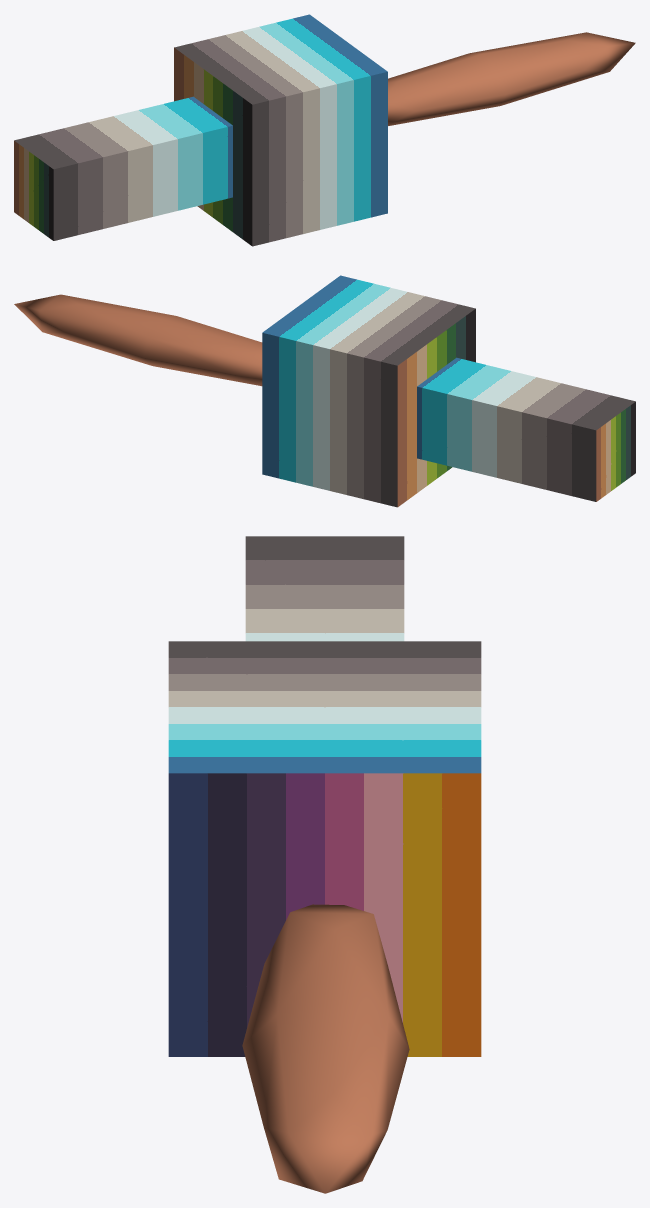
File: sword.dae
The picture shows the model from 3 angles, top to bottom: view 1: azimuth 30°, elevation 25°; view 2: azimuth 150°, elevation 25°; view 3: azimuth 270°, elevation 25°; orthographic projection. The views are drawn at different scales.
Parts seen in each view (by area): view 1: pCube4; view 2: pCube4; view 3: pCube4.
Boxes of the visible parts, x1=… form: pCube4: x1=14, y1=14, x2=635, y2=246; pCube4: x1=14, y1=275, x2=635, y2=507; pCube4: x1=168, y1=536, x2=481, y2=1193.
Bounding box in the file's own units: 4.45 × 1 × 1.
